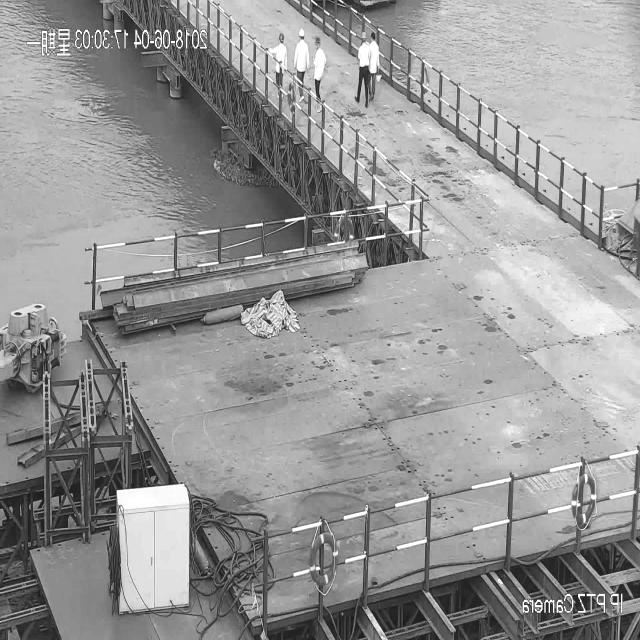head_helmet: (298, 26, 306, 38), (316, 37, 323, 46), (361, 28, 367, 35), (376, 74, 381, 82), (278, 36, 284, 42)
person: (352, 31, 370, 106), (293, 29, 308, 99), (313, 33, 328, 92), (272, 29, 286, 86), (372, 29, 381, 92)
shoes: (354, 94, 361, 105), (364, 100, 369, 109)
